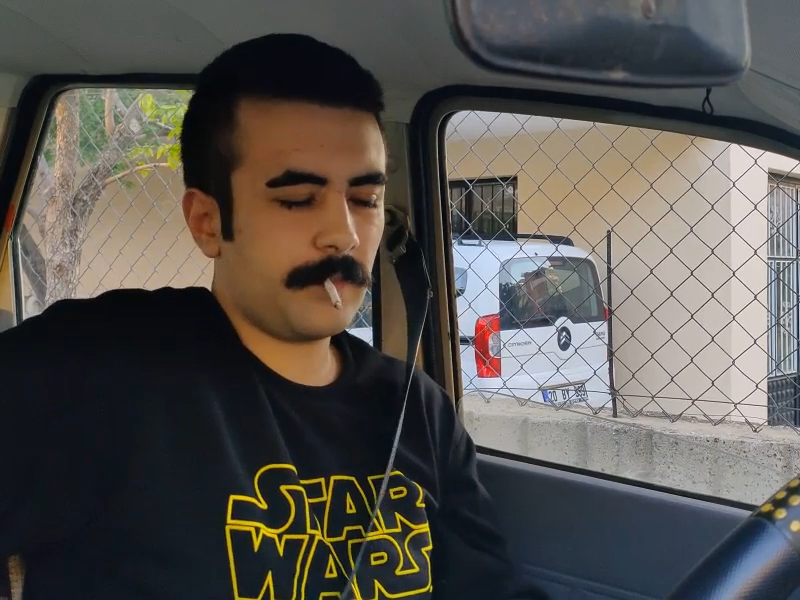sigara: (318, 274, 347, 313)
